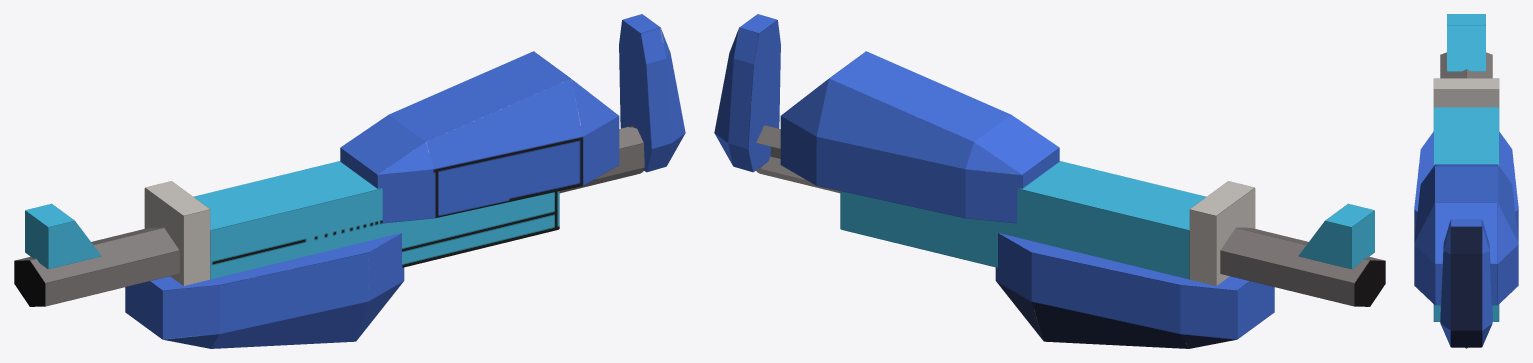
Rendered from PlasmaRifleLeftSide.obj.
3 renders of one model, left to right at view 1: azimuth 30°, elevation 25°; view 2: azimuth 150°, elevation 25°; view 3: azimuth 270°, elevation 25°, orthographic. The views are drawn at different scales.
Parts seen in each view (by area): view 1: Pad, Body, Grip, barrel, Stock, thing, sight, stock; view 2: Pad, Body, Grip, Stock, barrel, thing, sight, stock; view 3: Pad, Stock, Body, sight, thing, Grip, barrel.
Part boxes in pixels (x1,y1,x2,y2): Pad: (340, 51, 619, 223); Body: (183, 161, 559, 279); Grip: (125, 233, 404, 348); barrel: (14, 227, 210, 306); Stock: (619, 14, 685, 172); thing: (144, 181, 210, 290); sight: (25, 203, 101, 269); stock: (559, 125, 644, 193); Pad: (780, 51, 1059, 223); Body: (840, 161, 1216, 279); Grip: (995, 233, 1274, 348); Stock: (714, 14, 780, 172); barrel: (1189, 227, 1385, 306); thing: (1189, 181, 1255, 290); sight: (1298, 203, 1374, 269); stock: (756, 125, 840, 193); Pad: (1414, 164, 1518, 305); Stock: (1440, 219, 1492, 347); Body: (1433, 107, 1499, 321); sight: (1447, 14, 1485, 71); thing: (1433, 78, 1499, 107); Grip: (1414, 132, 1518, 240); barrel: (1440, 52, 1492, 78).
Size of the model in its own units: 1.5 by 0.5128 by 0.25.
Materials: 1 (1 with a texture image).
